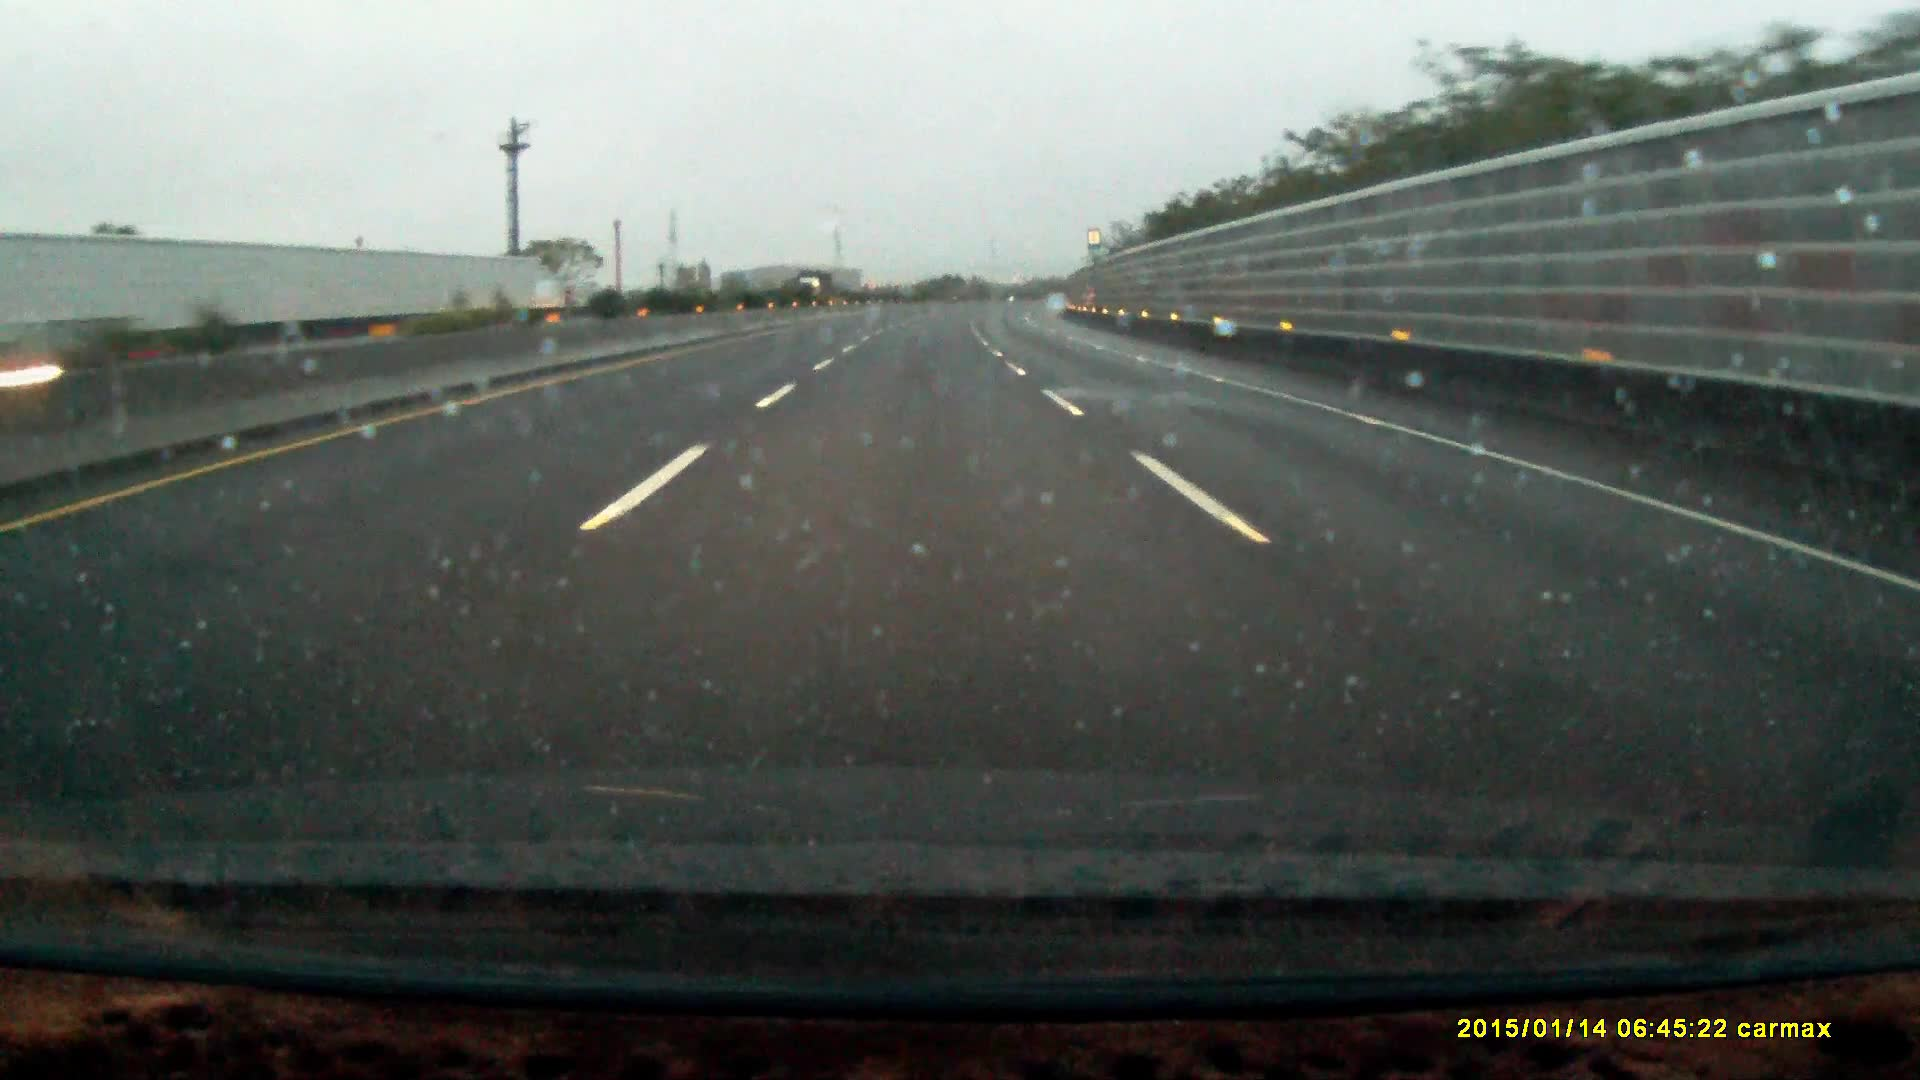vehicle: (796, 268, 833, 303)
